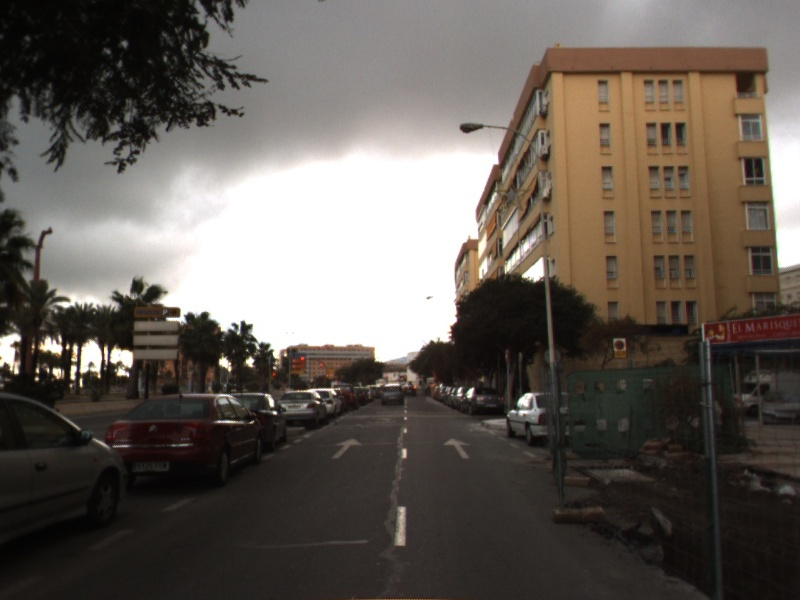STRAIGHT: (330, 436, 364, 460), (442, 437, 472, 459)
